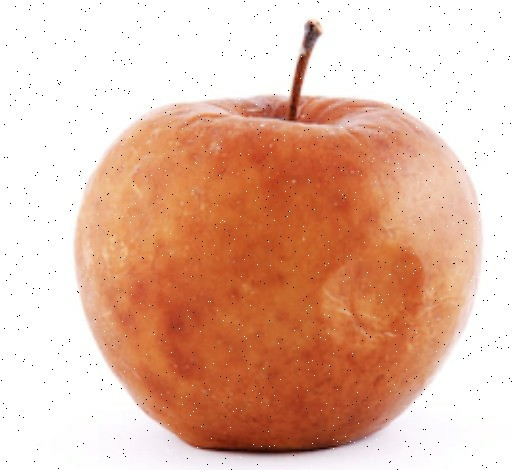fresh_apple: (74, 99, 482, 453)
